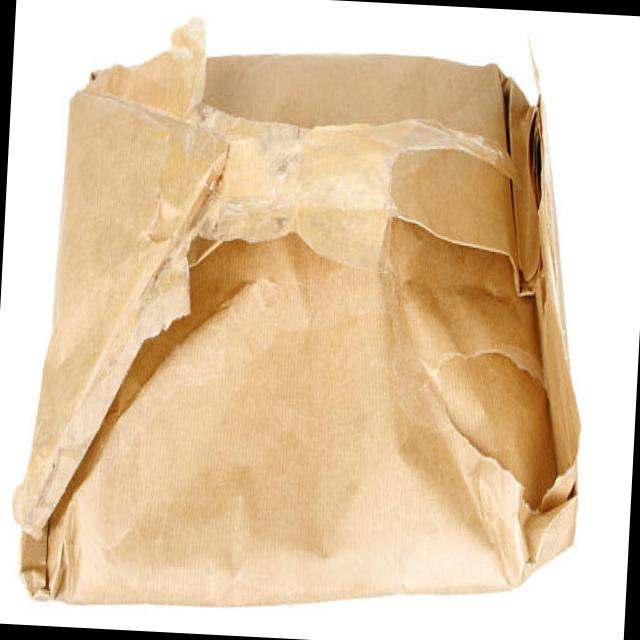electronic: (9, 6, 602, 630)
